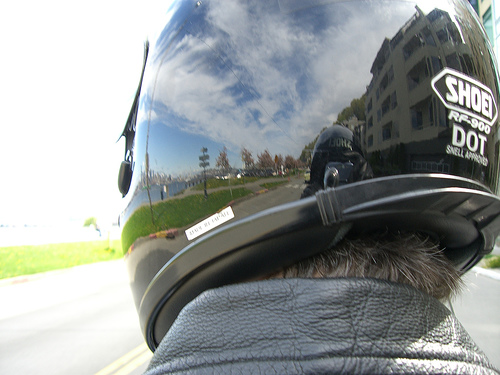helmet: (121, 4, 492, 250)
